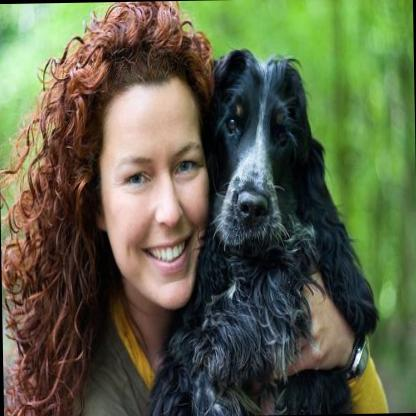cocker_spaniel: (139, 42, 380, 414)
